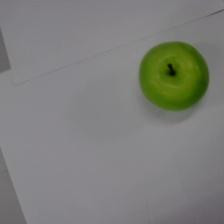green: (140, 42, 209, 111)
